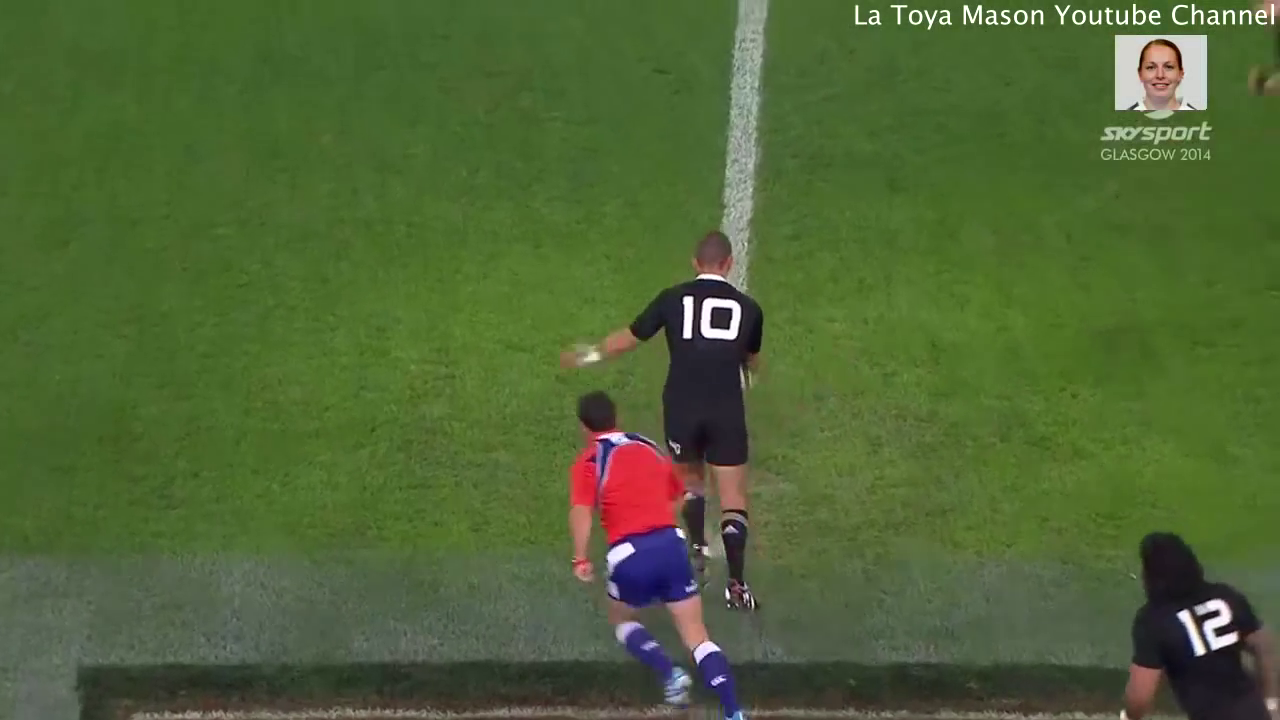player: (549, 231, 779, 637), (558, 384, 752, 720), (1115, 520, 1280, 720)
